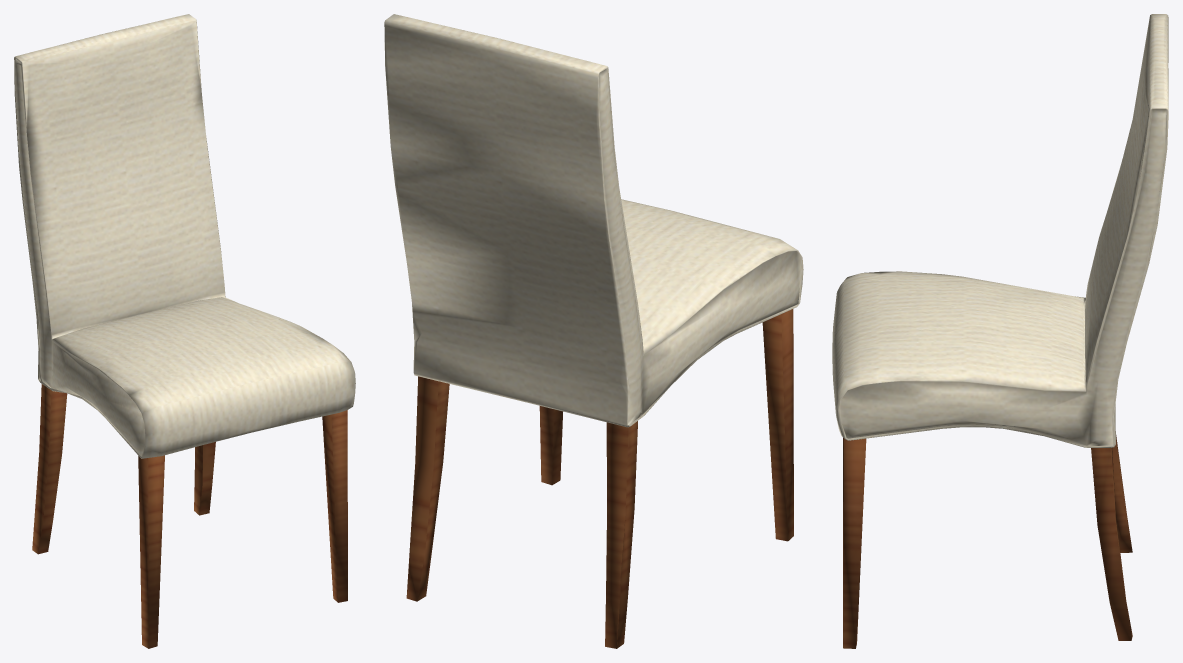
Rendered from catalani_low.FBX.
3 renders of one model, left to right at view 1: azimuth 30°, elevation 25°; view 2: azimuth 150°, elevation 25°; view 3: azimuth 270°, elevation 25°, orthographic. The views are drawn at different scales.
Visible parts, largest first — view 1: cattelan_italia_cindy; view 2: cattelan_italia_cindy; view 3: cattelan_italia_cindy.
Part boxes in pixels (box(x1,y1,x2,y2)): cattelan_italia_cindy: box(14, 14, 355, 648); cattelan_italia_cindy: box(384, 14, 803, 648); cattelan_italia_cindy: box(832, 14, 1168, 648).
Bounding box in the file's own units: 43.92 × 95.47 × 54.28.
2 materials, 2 textured.
